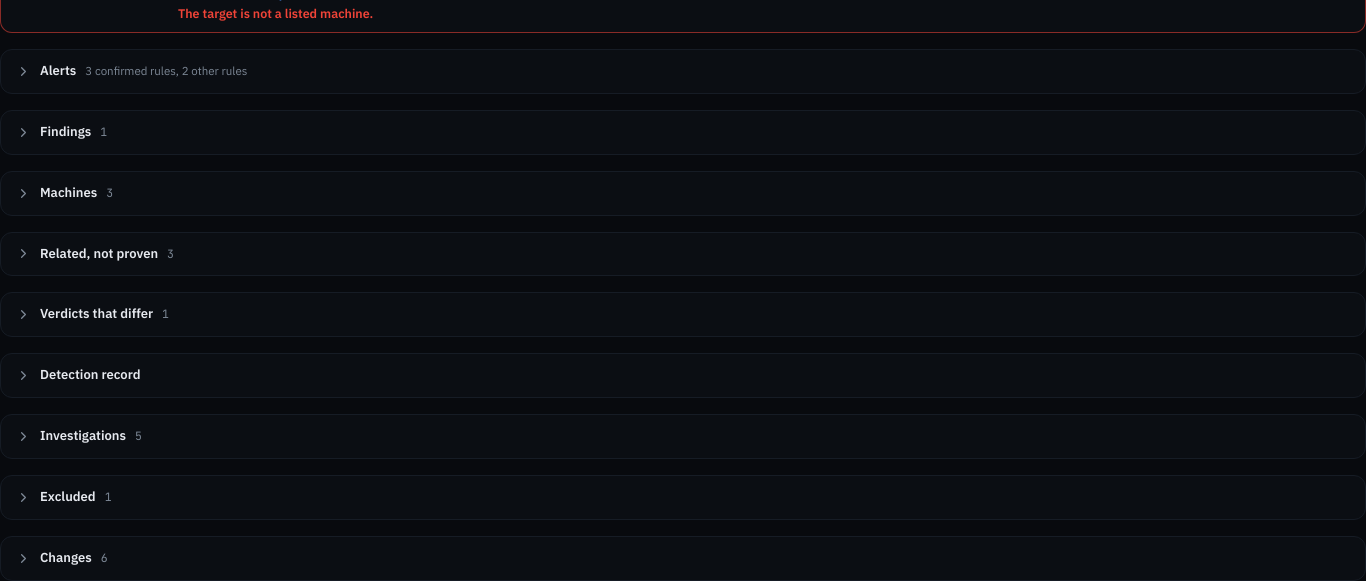
it: the rows of the Investigations fold › states the refusal of the server and keeps the confirm
This screenshot has width=1366, height=581.
(page scrolled)
Click the button "Investigations 5". click: (83,436)
box: top-left (1, 415), bottom-right (1365, 458)
(page scrolled)
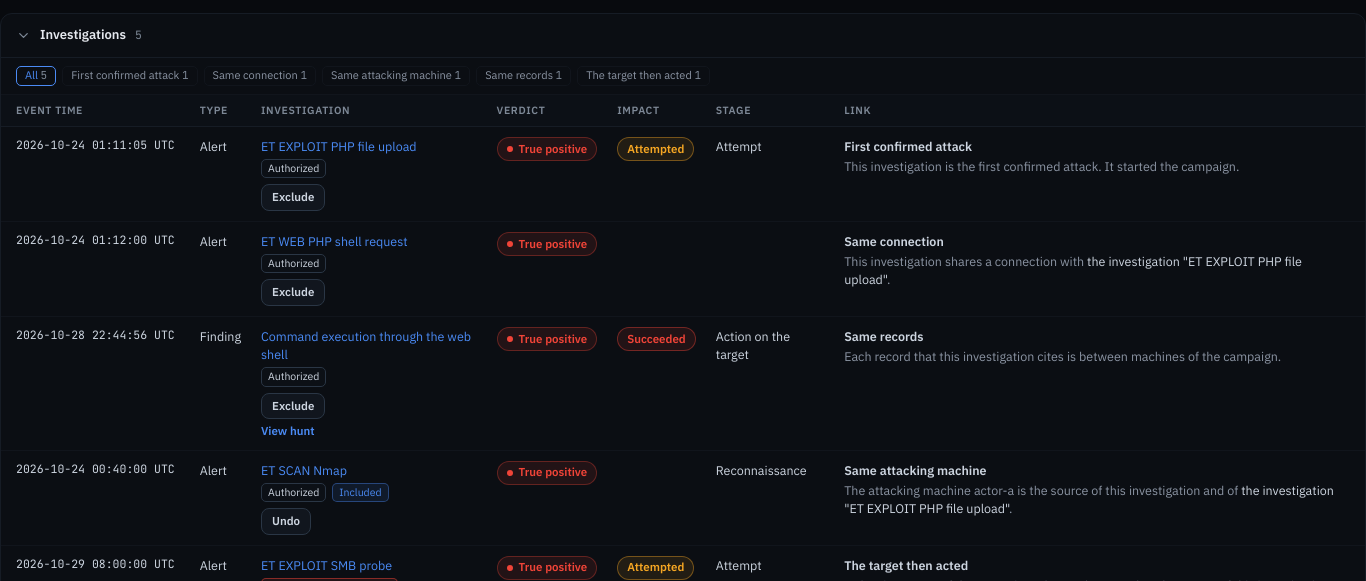
Click the 1st button "Exclude". click: (293,198)
box: top-left (261, 184), bottom-right (325, 211)
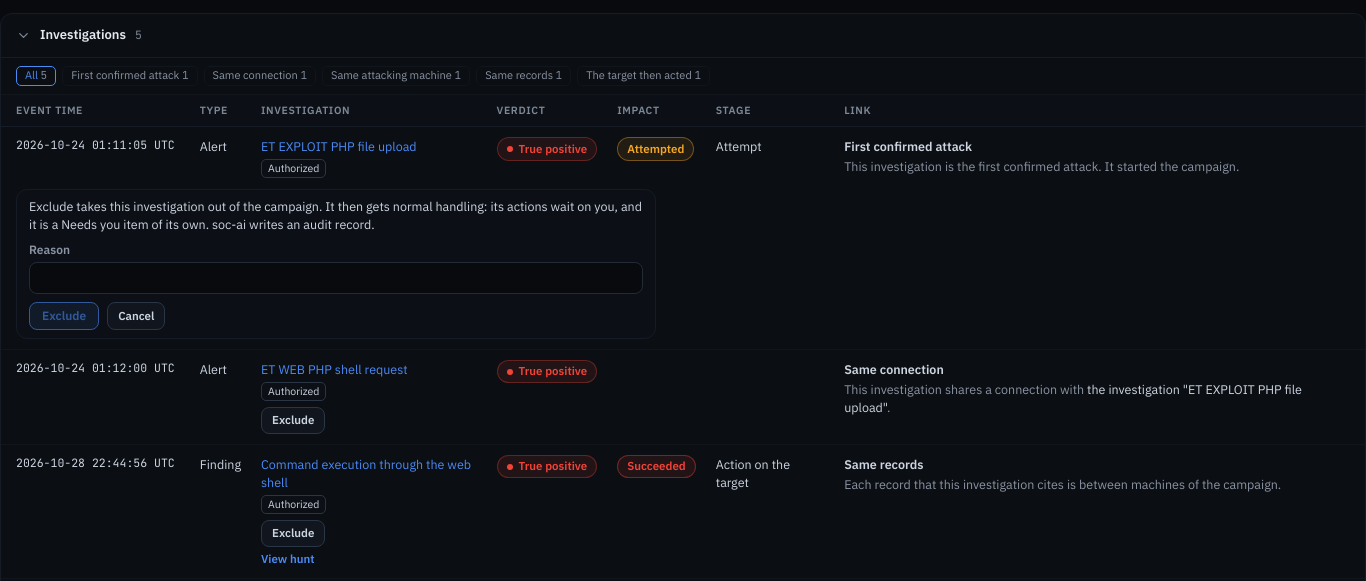
Type "Noise." into the field labelled "Reason". click: (336,278)
box: top-left (29, 262), bottom-right (643, 294)
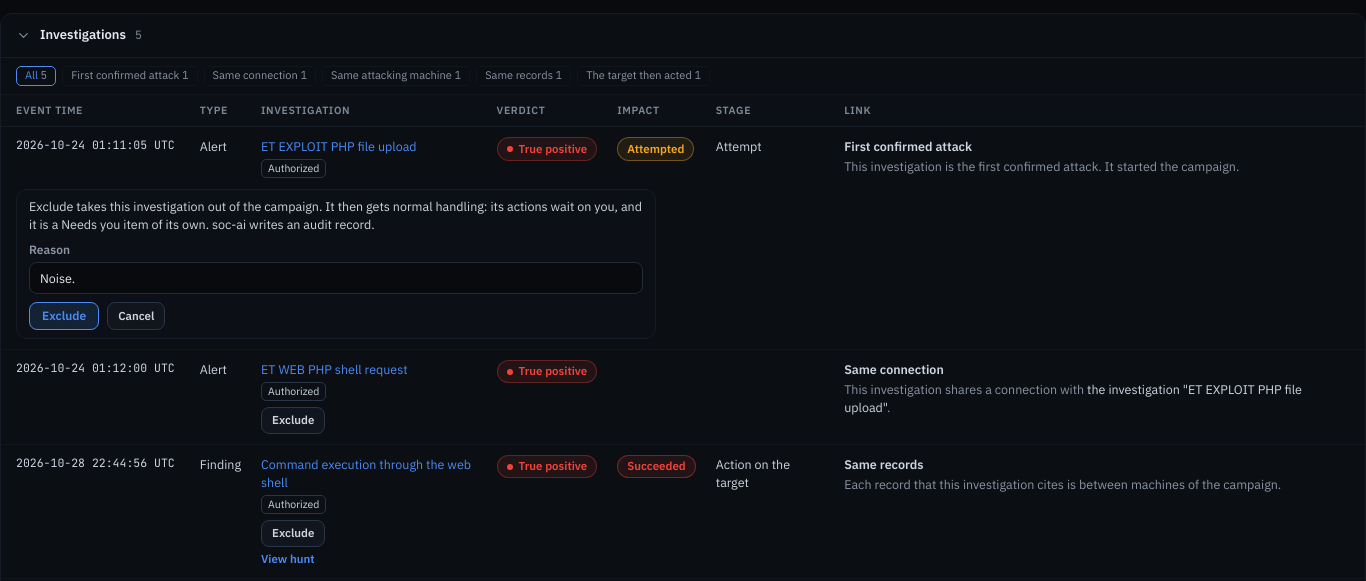
Click the button "Exclude" below "Reason". click: (64,316)
box: top-left (29, 302), bottom-right (99, 330)
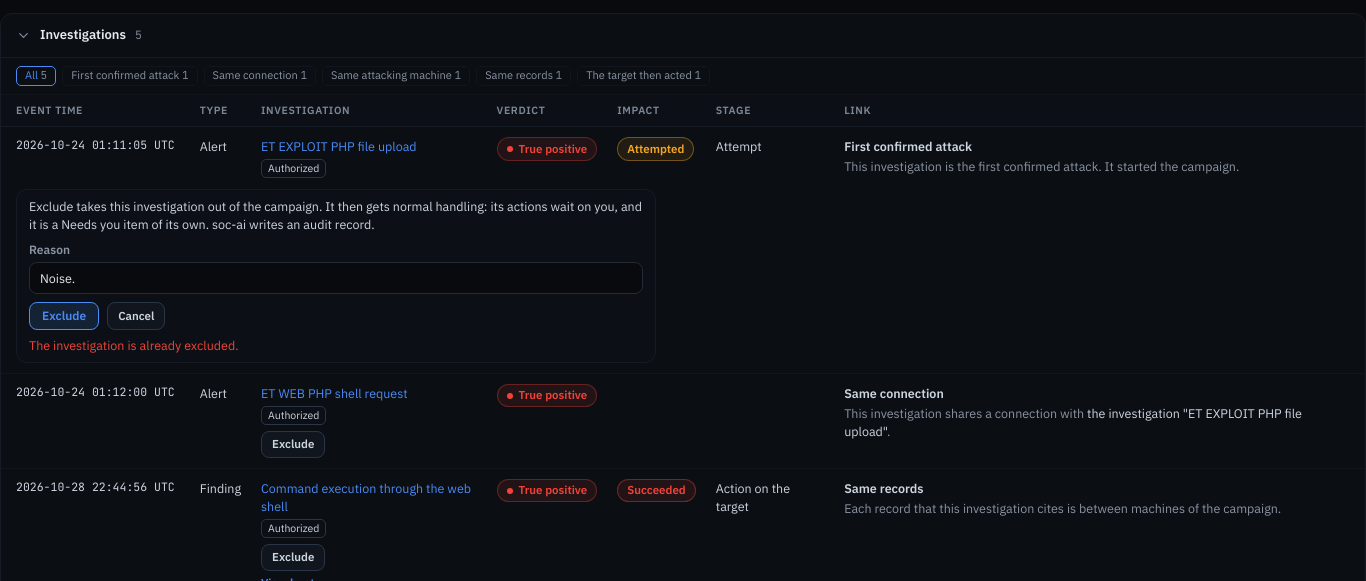
Result: the message reads "The investigation is already excluded." at top-left (29, 337), bottom-right (239, 353)
